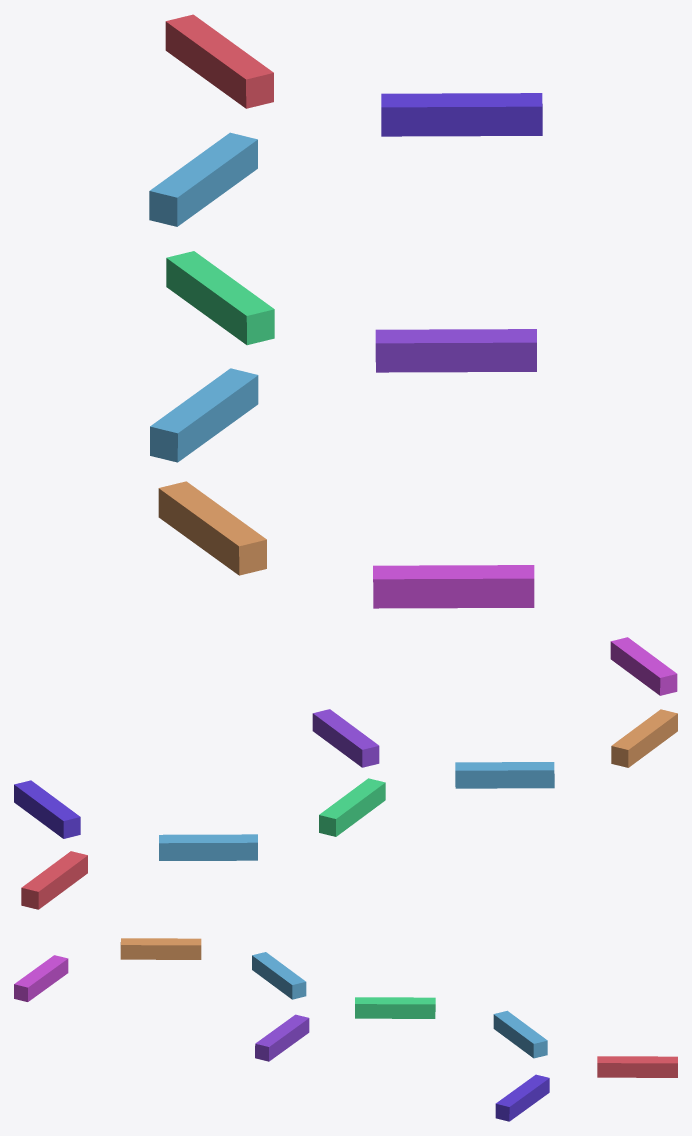
Rendered from roads1.dae.
3 views of the same model, one above another, from view 1: azimuth 30°, elevation 25°; view 2: azimuth 150°, elevation 25°; view 3: azimuth 270°, elevation 25° (orthographic). The views are drawn at different scales.
Parts seen in each view (by area): view 1: road.001; view 2: road.001; view 3: road.001.
Part boxes in pixels (x1,y1,x2,y2): road.001: [149, 14, 542, 608]; road.001: [14, 637, 677, 909]; road.001: [14, 938, 677, 1121].
Bounding box in the file's own units: 2.48 × 4.12 × 0.1024.
